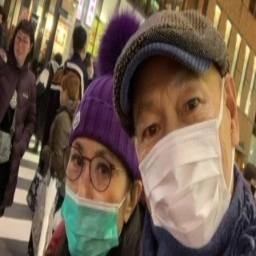correctlyWear: (114, 81, 238, 247), (60, 142, 141, 256)
noWear: (12, 32, 33, 63)
